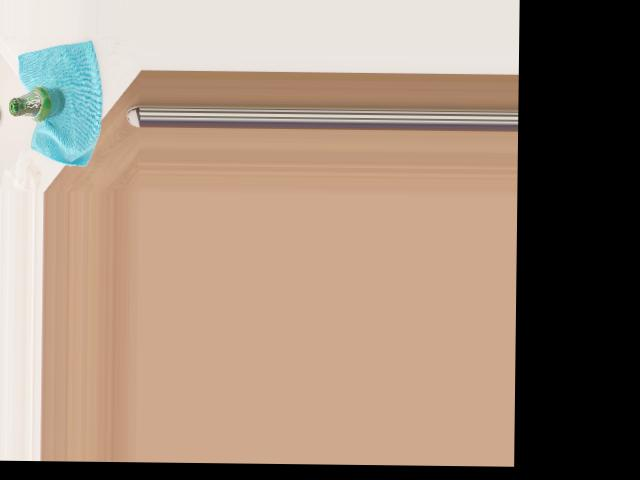beer: (9, 86, 66, 122)
